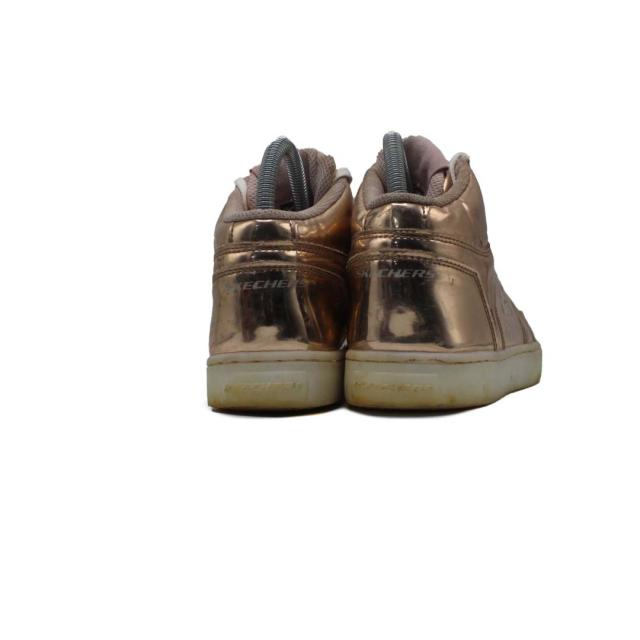heel: (348, 170, 496, 350), (219, 179, 330, 352)
midsole: (208, 354, 542, 416)
